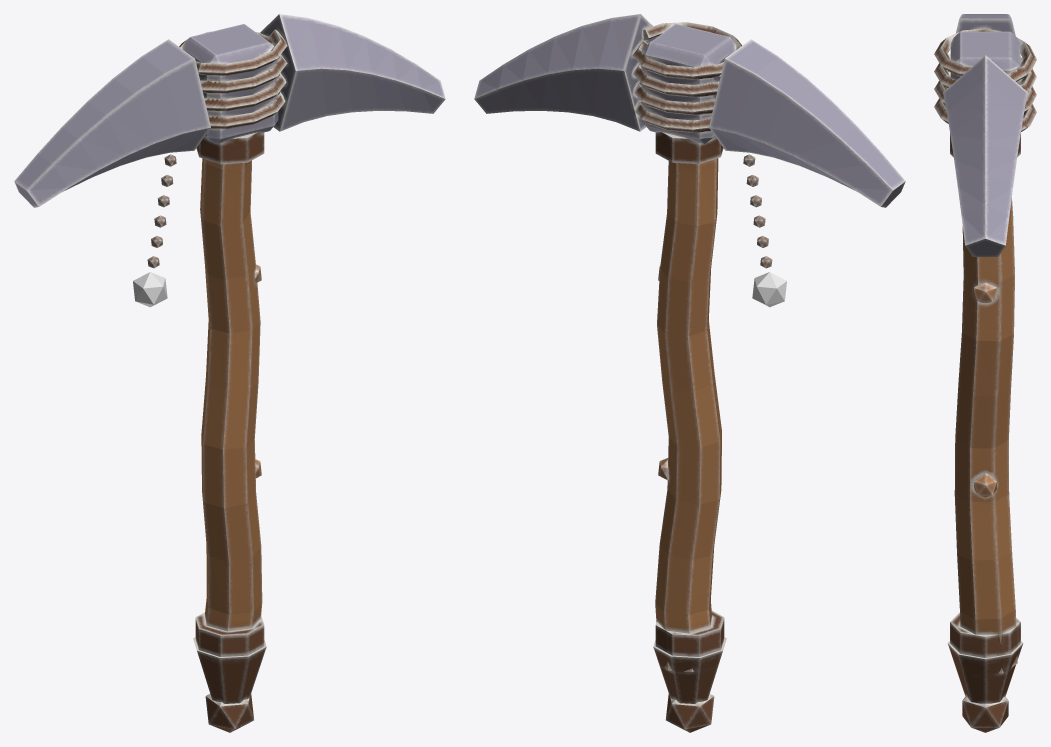
The model's file is StonePickaxe.glb.
The picture shows the model from 3 angles, left to right: view 1: azimuth 30°, elevation 25°; view 2: azimuth 150°, elevation 25°; view 3: azimuth 270°, elevation 25°; orthographic projection.
Visible parts, largest first — view 1: Body__Tex, Head__Gem; view 2: Body__Tex, Head__Gem; view 3: Body__Tex.
Boxes of the visible parts, x1,y1,x2,y2 form: Body__Tex: (14,14,445,732); Head__Gem: (133,272,167,307); Body__Tex: (474,14,905,732); Head__Gem: (752,272,786,307); Body__Tex: (934,14,1036,732).
Size of the model in its own units: 2.48 by 3.99 by 0.53.
Materials: 1 (1 with a texture image).
